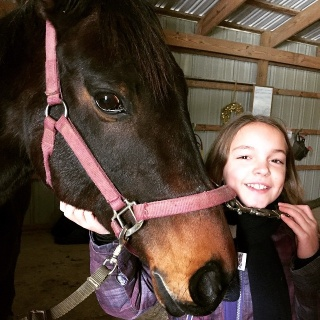without_mask: (223, 120, 289, 208)
